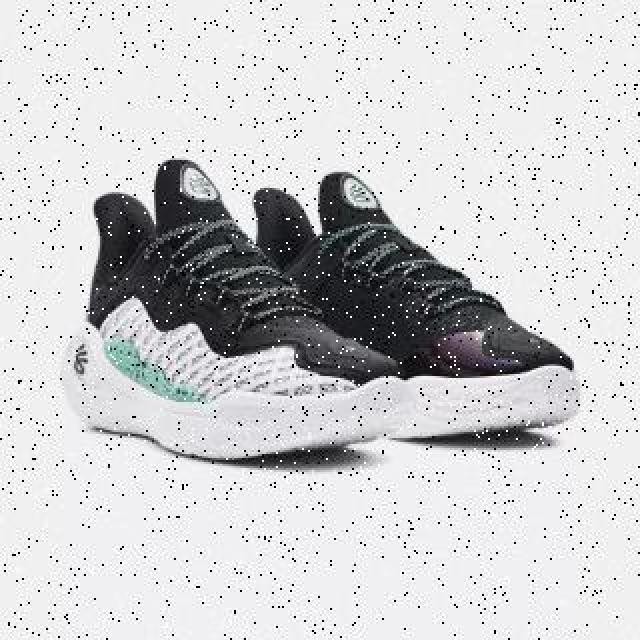shoe: (59, 159, 405, 463), (224, 173, 580, 441)
